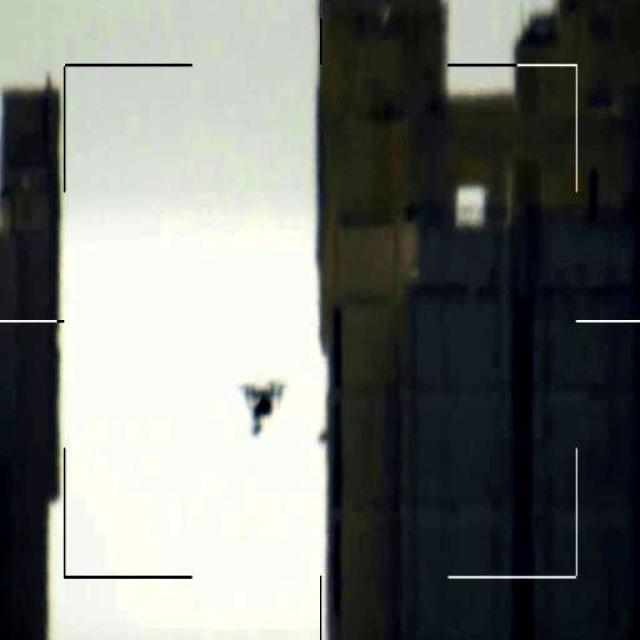bird: (234, 375, 285, 440)
